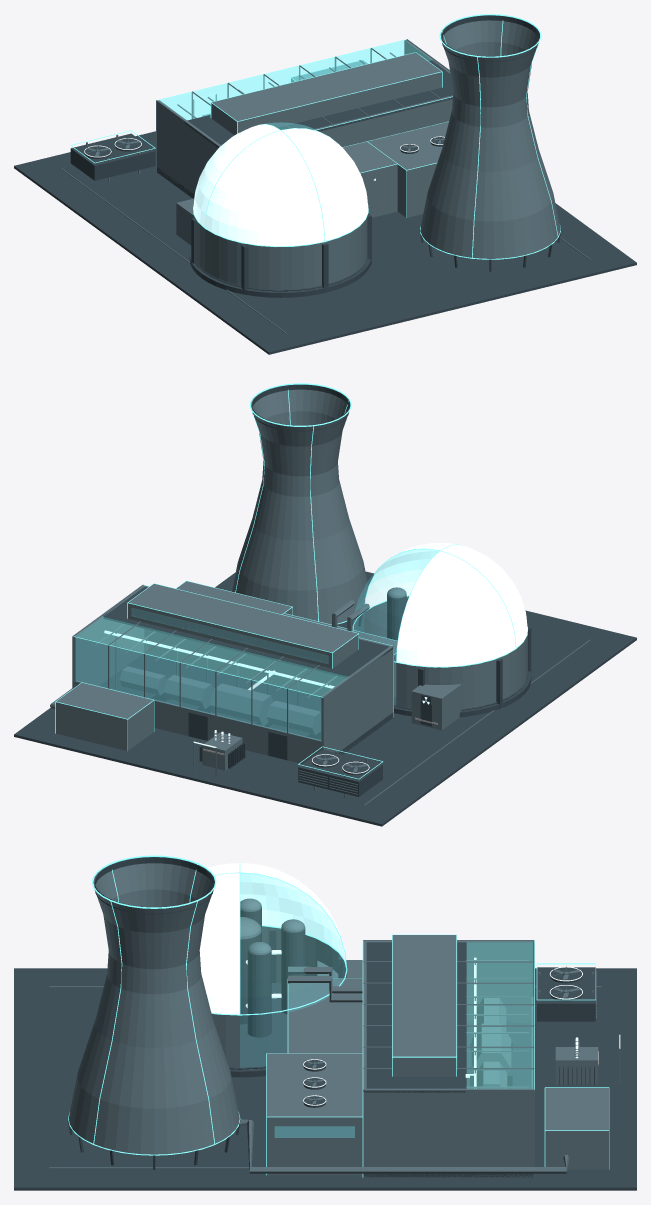
File: nuclear_smr_module.glb
3 renders of one model, top to bottom at view 1: azimuth 30°, elevation 25°; view 2: azimuth 150°, elevation 25°; view 3: azimuth 270°, elevation 25°, orthographic. The views are drawn at different scales.
Visible parts, largest first — view 1: nuclear_smr_module_graphite_light, nuclear_smr_module_graphite, nuclear_smr_module_white, nuclear_smr_module_glass, nuclear_smr_module_edge; view 2: nuclear_smr_module_graphite_light, nuclear_smr_module_graphite, nuclear_smr_module_glass, nuclear_smr_module_white, nuclear_smr_module_edge; view 3: nuclear_smr_module_graphite_light, nuclear_smr_module_graphite, nuclear_smr_module_glass, nuclear_smr_module_white, nuclear_smr_module_edge.
Boxes of the visible parts, x1,y1,x2,y2 form: nuclear_smr_module_graphite_light: (60,15,590,333); nuclear_smr_module_graphite: (14,15,636,354); nuclear_smr_module_white: (84,93,444,246); nuclear_smr_module_glass: (159,40,431,130); nuclear_smr_module_edge: (70,14,560,259); nuclear_smr_module_graphite_light: (50,384,590,805); nuclear_smr_module_graphite: (14,384,636,826); nuclear_smr_module_glass: (75,549,438,740); nuclear_smr_module_white: (104,543,527,773); nuclear_smr_module_edge: (55,383,527,779); nuclear_smr_module_graphite_light: (49,857,620,1177); nuclear_smr_module_graphite: (14,857,636,1190); nuclear_smr_module_glass: (240,873,532,1137); nuclear_smr_module_white: (199,863,620,1105); nuclear_smr_module_edge: (68,855,609,1177).
Bounding box in the file's own units: 97 × 52.72 × 116.
